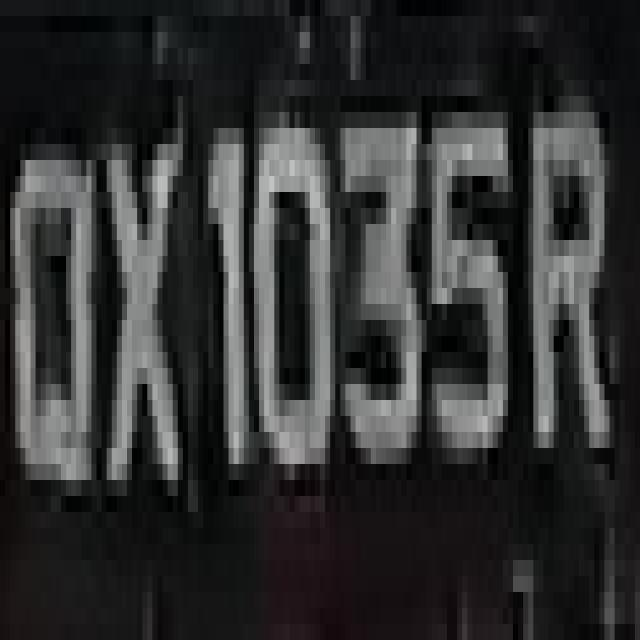0: (249, 64, 330, 512)
1: (208, 96, 254, 480)
3: (325, 64, 427, 496)
5: (422, 80, 513, 480)
Q: (10, 80, 102, 544)
R: (513, 80, 620, 512)
X: (96, 80, 183, 528)
